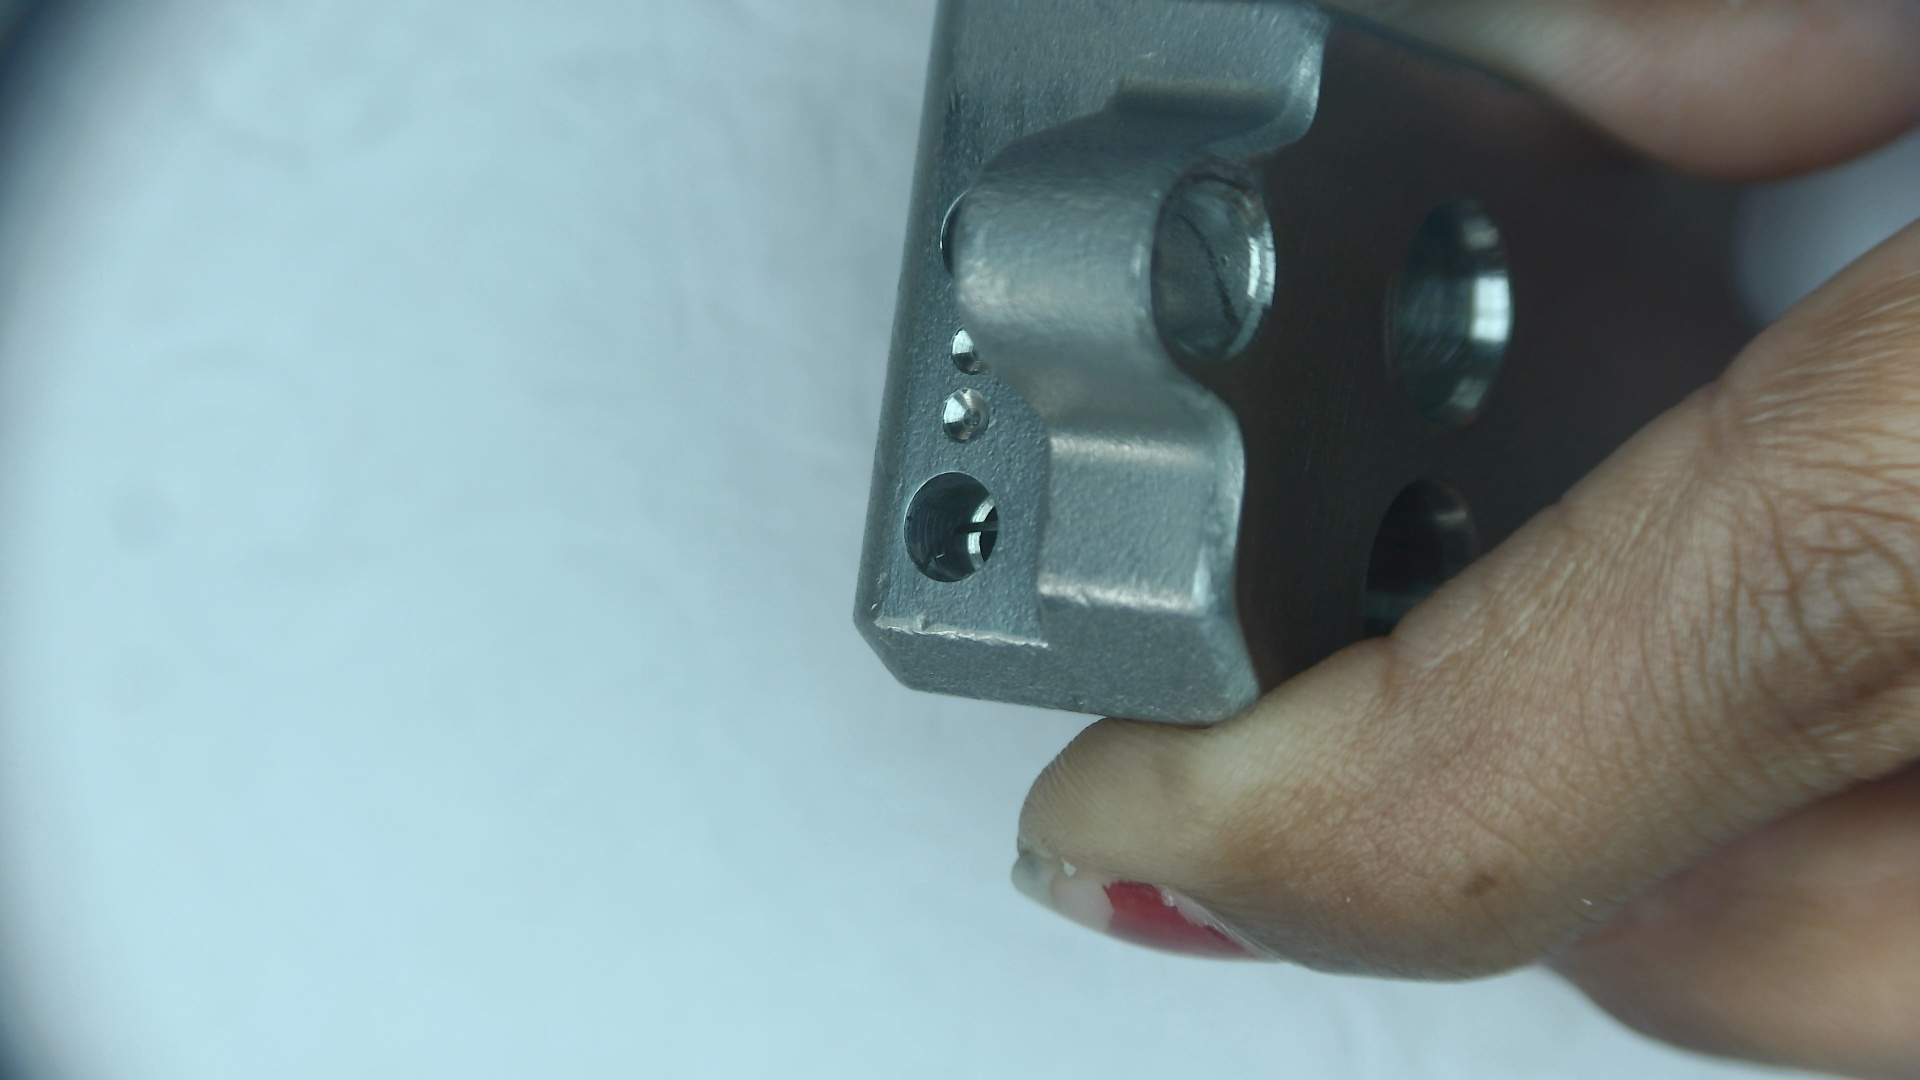burr: (1825, 1036, 1920, 1080)
